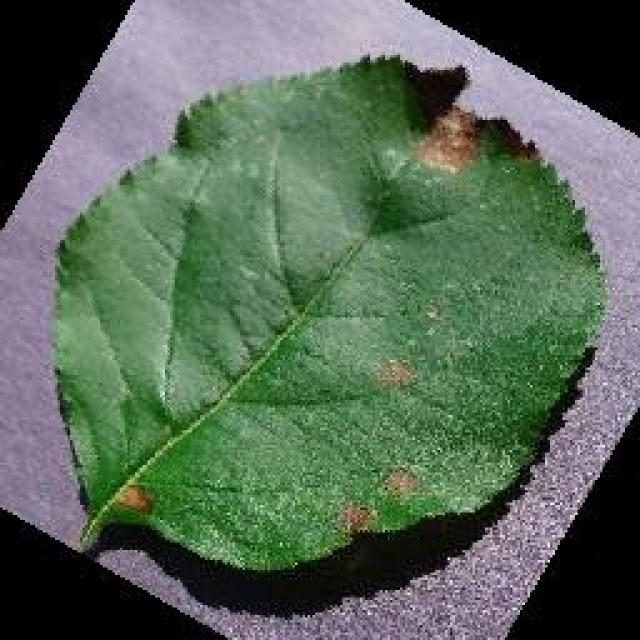apple black rot: (48, 48, 610, 598)
